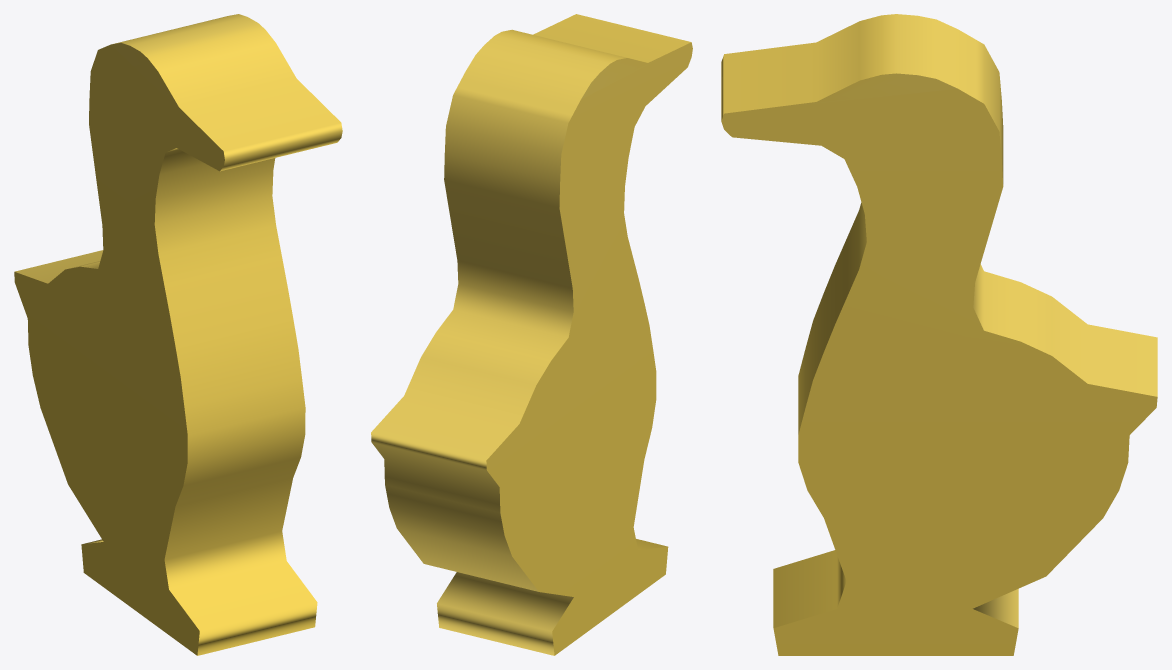
Rendered from Gans Geel.fbx.
The picture shows the model from 3 angles, left to right: view 1: azimuth 30°, elevation 25°; view 2: azimuth 150°, elevation 25°; view 3: azimuth 270°, elevation 25°; orthographic projection. The views are drawn at different scales.
Visible parts, largest first — view 1: pCube1; view 2: pCube1; view 3: pCube1.
Boxes of the visible parts, left/top/right/bottom form: pCube1: left=14, top=14, right=342, bottom=655; pCube1: left=371, top=14, right=692, bottom=655; pCube1: left=721, top=14, right=1157, bottom=655.
Bounding box in the file's own units: 0.3124 × 1.43 × 0.9687.
1 material, 1 textured.
